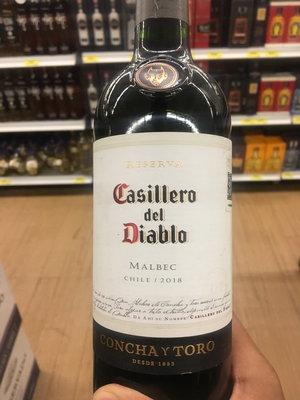casillero del diablo malbec: (80, 18, 245, 400)
